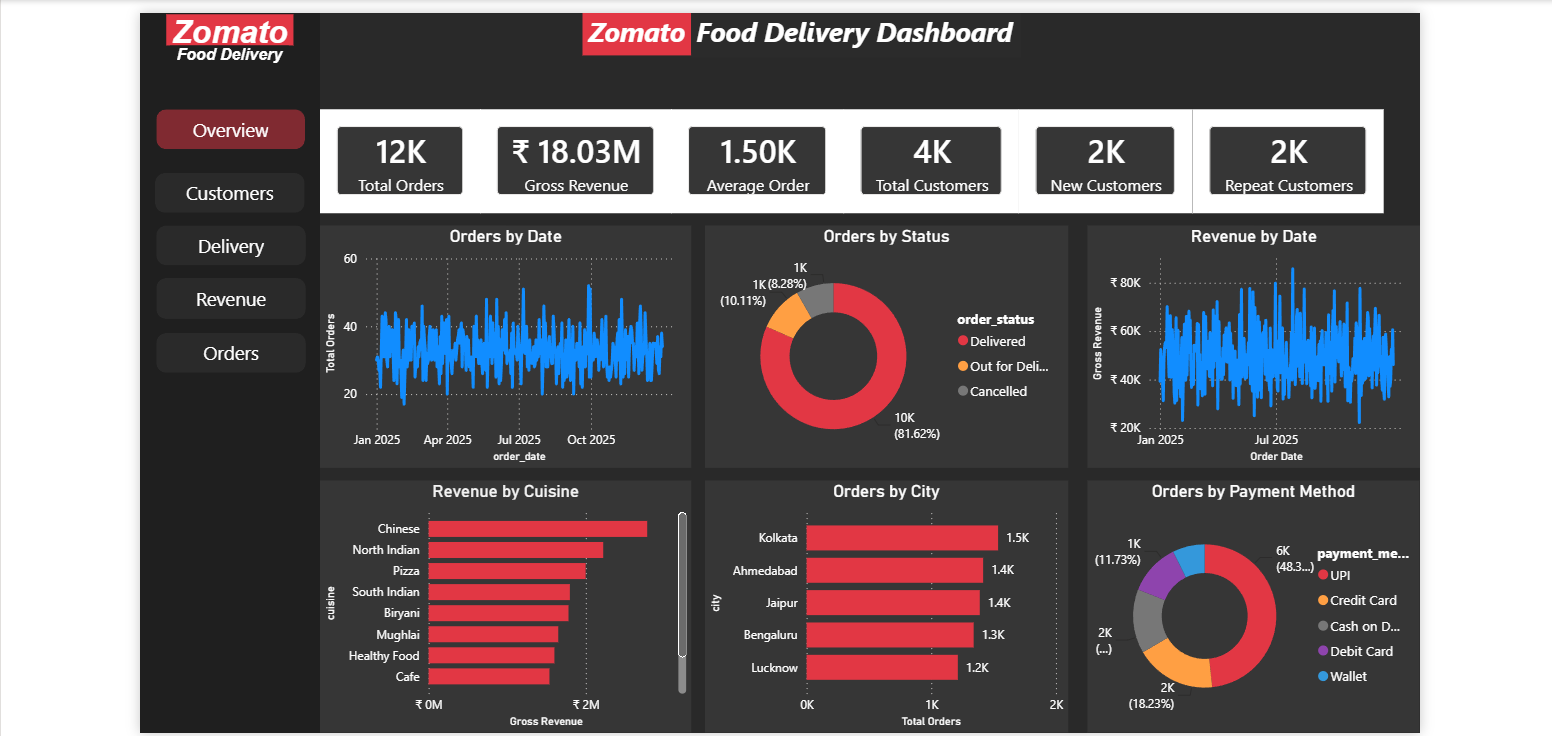

The page's visual inventory and layout, read from the dashboard file:
{"tool":"powerbi","page":{"name":"Main Dashboard ","canvas":[1280,720],"ordinal":0},"visuals":[{"type":"cardVisual","fields":{"Data":["Zomato measures.Total Orders"]},"box":[179.8,96.5,160.5,103.8],"z":0},{"type":"cardVisual","fields":{"Data":["Zomato measures.Gross Revenue"]},"box":[340.2,96.5,191.8,103.8],"z":1000},{"type":"cardVisual","fields":{"Data":["Zomato measures.Average Order Value"]},"box":[531.2,96.2,172.5,103.8],"z":2000},{"type":"cardVisual","fields":{"Data":["Zomato measures.Total Customers"]},"box":[703.8,96.2,175,103.8],"z":3000},{"type":"cardVisual","fields":{"Data":["Zomato measures.New Customers"]},"box":[878.8,96.2,173.8,103.8],"z":4000},{"type":"cardVisual","fields":{"Data":["Zomato measures.Repeat Customers"]},"box":[1052.5,96.2,191.2,103.8],"z":5000},{"type":"lineChart","title":"Orders by Date","fields":{"Y":["Zomato measures.Total Orders"],"Category":["Orders.order_date"]},"box":[179.8,212.3,371.6,242.5],"z":6000},{"type":"donutChart","title":"Orders by Status","fields":{"Y":["Zomato measures.Total Orders"],"Category":["Orders.order_status"]},"box":[564.6,212.3,363.1,242.5],"z":7000},{"type":"lineChart","title":"Revenue by Date","fields":{"Y":["Zomato measures.Gross Revenue"],"Category":["Orders.order_date"]},"box":[947.1,212.3,333,242.5],"z":8000},{"type":"clusteredBarChart","title":"Revenue by Cuisine","fields":{"Y":["Zomato measures.Gross Revenue"],"Category":["Orders.cuisine"]},"box":[179.8,468.1,371.6,252.1],"z":9000},{"type":"clusteredBarChart","title":"Orders by City","fields":{"Y":["Zomato measures.Total Orders"],"Category":["Orders.city"]},"box":[564.6,468.1,363.1,252.1],"z":10000},{"type":"donutChart","title":"Orders by Payment Method","fields":{"Y":["Zomato measures.Total Orders"],"Category":["Orders.payment_method"]},"box":[947.1,468.1,331.8,252.1],"z":11000},{"type":"textbox","title":"Zomato","box":[442.8,0,108.6,42.2],"z":12000},{"type":"textbox","title":"Food Delivery Dashboard","box":[551.3,0,329.4,44.6],"z":13000},{"type":"shape","box":[0,0,180,720],"z":14000},{"type":"textbox","title":"Zomato","box":[25.7,1.4,127.1,31.4],"z":15000},{"type":"textbox","title":"Food Delivery","box":[30,32.9,118.6,22.9],"z":16000},{"type":"actionButton","box":[16.2,96.2,148.8,40],"z":17000},{"type":"actionButton","box":[15.7,319.7,149.6,39.8],"z":18000},{"type":"actionButton","box":[14.5,160.5,149.6,39.8],"z":19000},{"type":"actionButton","box":[15.7,212.3,149.6,39.8],"z":20000},{"type":"actionButton","box":[15.7,265.4,149.6,41],"z":21000}]}

Visuals, with their boxes on the page's 1280x720 design canvas (x1, y1, x2, y2). These are canvas units, not pixel positions in the 1552x736 screenshot, which may show the page scaled, cropped or inside an application window:
cardVisual - Zomato measures.Total Orders: [180, 96, 340, 200]
cardVisual - Zomato measures.Gross Revenue: [340, 96, 532, 200]
cardVisual - Zomato measures.Average Order Value: [531, 96, 704, 200]
cardVisual - Zomato measures.Total Customers: [704, 96, 879, 200]
cardVisual - Zomato measures.New Customers: [879, 96, 1053, 200]
cardVisual - Zomato measures.Repeat Customers: [1052, 96, 1244, 200]
"Orders by Date" lineChart: [180, 212, 551, 455]
"Orders by Status" donutChart: [565, 212, 928, 455]
"Revenue by Date" lineChart: [947, 212, 1280, 455]
"Revenue by Cuisine" clusteredBarChart: [180, 468, 551, 720]
"Orders by City" clusteredBarChart: [565, 468, 928, 720]
"Orders by Payment Method" donutChart: [947, 468, 1279, 720]
"Zomato" textbox: [443, 0, 551, 42]
"Food Delivery Dashboard" textbox: [551, 0, 881, 45]
shape: [0, 0, 180, 720]
"Zomato" textbox: [26, 1, 153, 33]
"Food Delivery" textbox: [30, 33, 149, 56]
actionButton: [16, 96, 165, 136]
actionButton: [16, 320, 165, 360]
actionButton: [14, 160, 164, 200]
actionButton: [16, 212, 165, 252]
actionButton: [16, 265, 165, 306]
